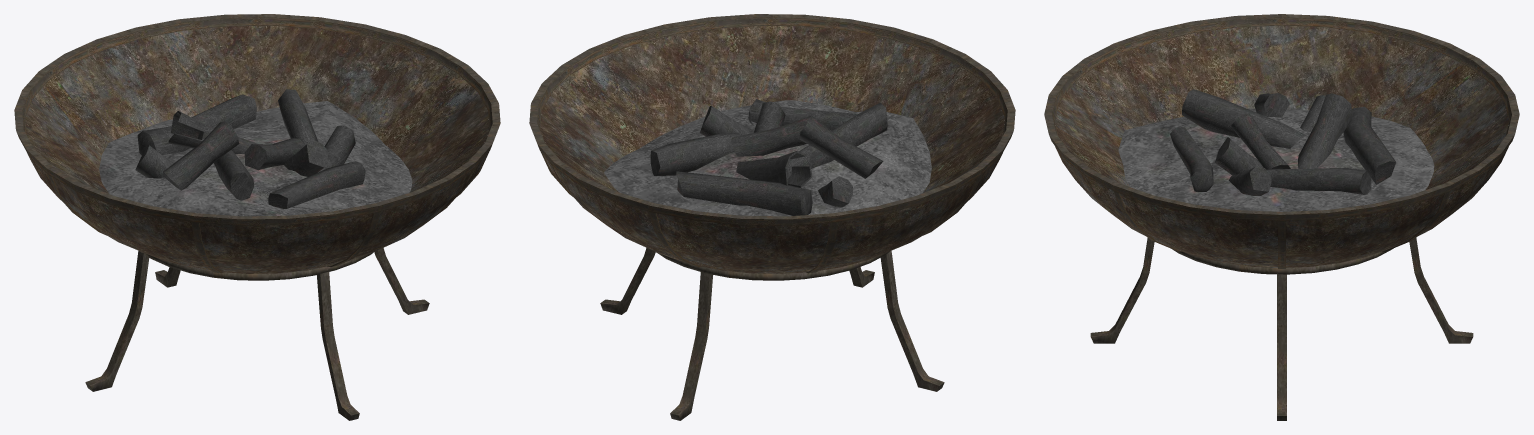
File: GEN_PRO_Brasero_Large_Metal_01A_LOD0-transformed.glb
3 views of the same model, side by side, from view 1: azimuth 30°, elevation 25°; view 2: azimuth 150°, elevation 25°; view 3: azimuth 270°, elevation 25° (orthographic). The views are drawn at different scales.
Visible parts, largest first — view 1: default; view 2: default; view 3: default.
Part boxes in pixels (x1,y1,x2,y2): default: (14,14,500,420); default: (529,14,1015,420); default: (1044,14,1519,420).
Size of the model in its own units: 3.73 by 2.01 by 3.73.
Materials: 3 (3 with a texture image).
